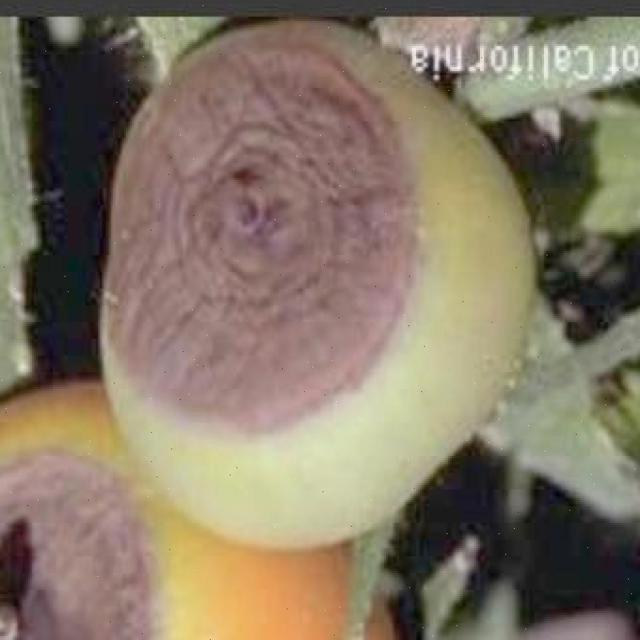Blossom End Rot Fruit: (64, 120, 207, 367)
